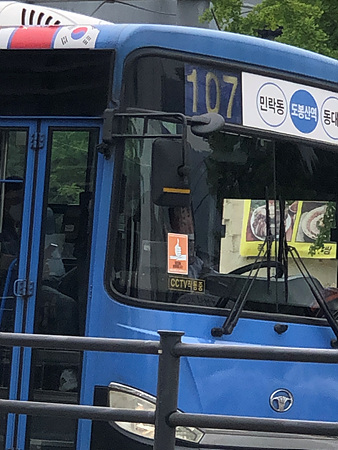bnum: (181, 66, 244, 122)
